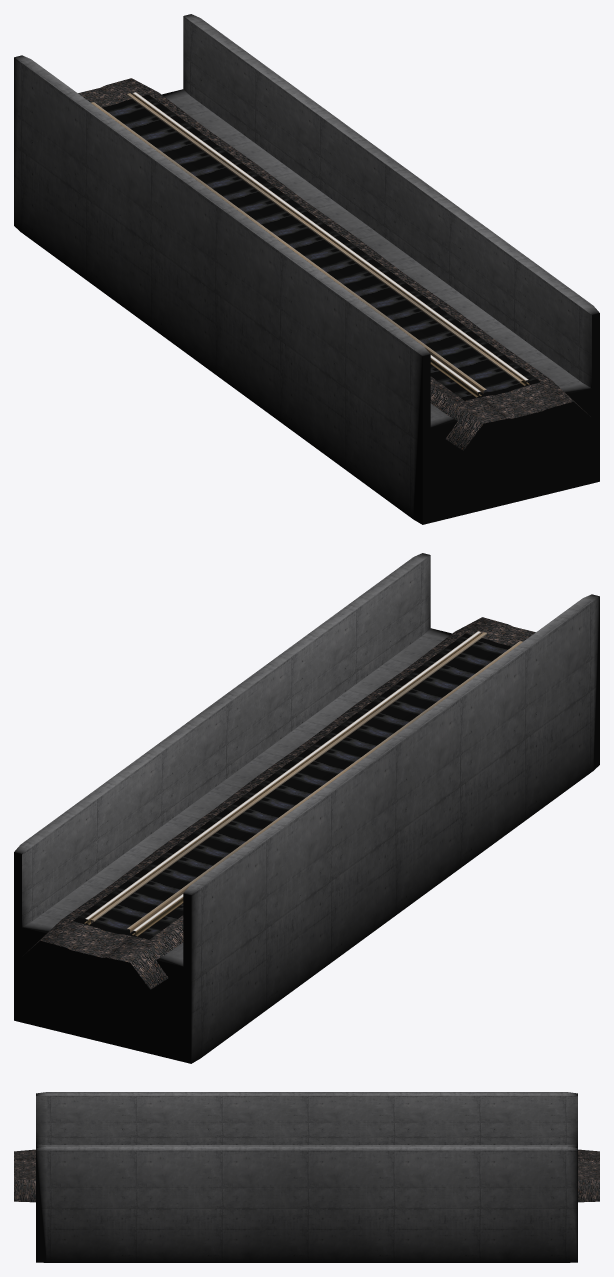
Rendered from MEI_1RAIL_50WALL.glb.
The picture shows the model from 3 angles, top to bottom: view 1: azimuth 30°, elevation 25°; view 2: azimuth 150°, elevation 25°; view 3: azimuth 270°, elevation 25°; orthographic projection. The views are drawn at different scales.
Visible parts, largest first — view 1: obj2, R000_RG_L1, R000_RG_R1; view 2: obj2, R000_RG_L1, R000_RG_R1; view 3: obj2.
Boxes of the visible parts, bbox=[...] form: obj2: bbox=[14, 14, 599, 524]; R000_RG_L1: bbox=[127, 93, 522, 382]; R000_RG_R1: bbox=[91, 102, 486, 393]; obj2: bbox=[14, 553, 599, 1063]; R000_RG_L1: bbox=[91, 632, 486, 923]; R000_RG_R1: bbox=[127, 641, 522, 933]; obj2: bbox=[14, 1092, 599, 1262].
Bounding box in the file's own units: 13.23 × 11.93 × 56.25.
Materials: 7 (7 with a texture image).
